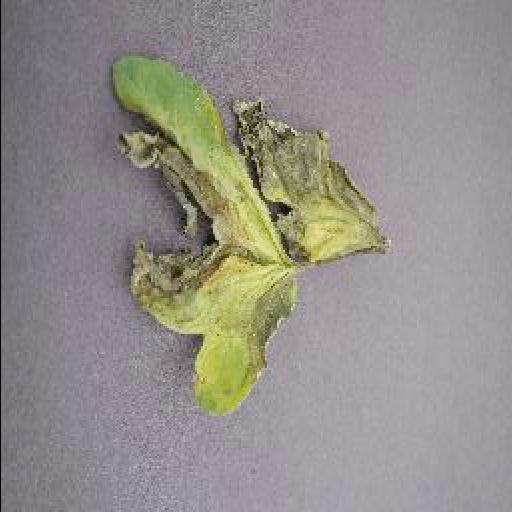disease_tomato: (106, 55, 390, 417)
